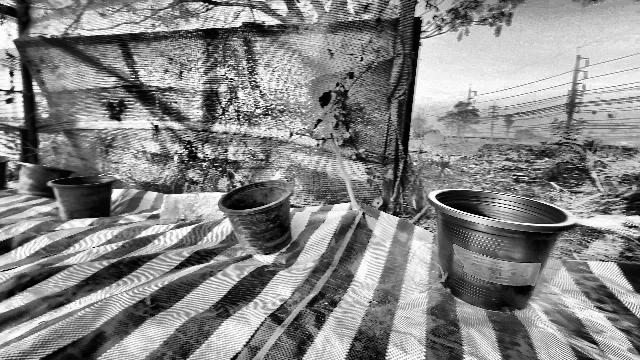pot: (425, 189, 577, 312), (216, 180, 293, 254), (46, 176, 114, 218)
